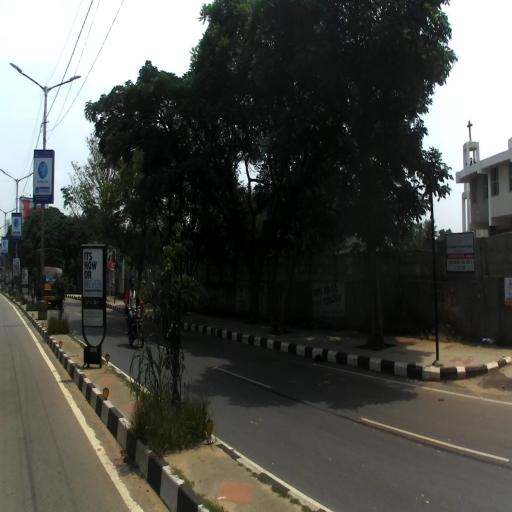street_light_0: (10, 62, 48, 94), (44, 77, 81, 95), (0, 168, 18, 183), (17, 172, 34, 184), (4, 209, 17, 216), (0, 223, 8, 230)
